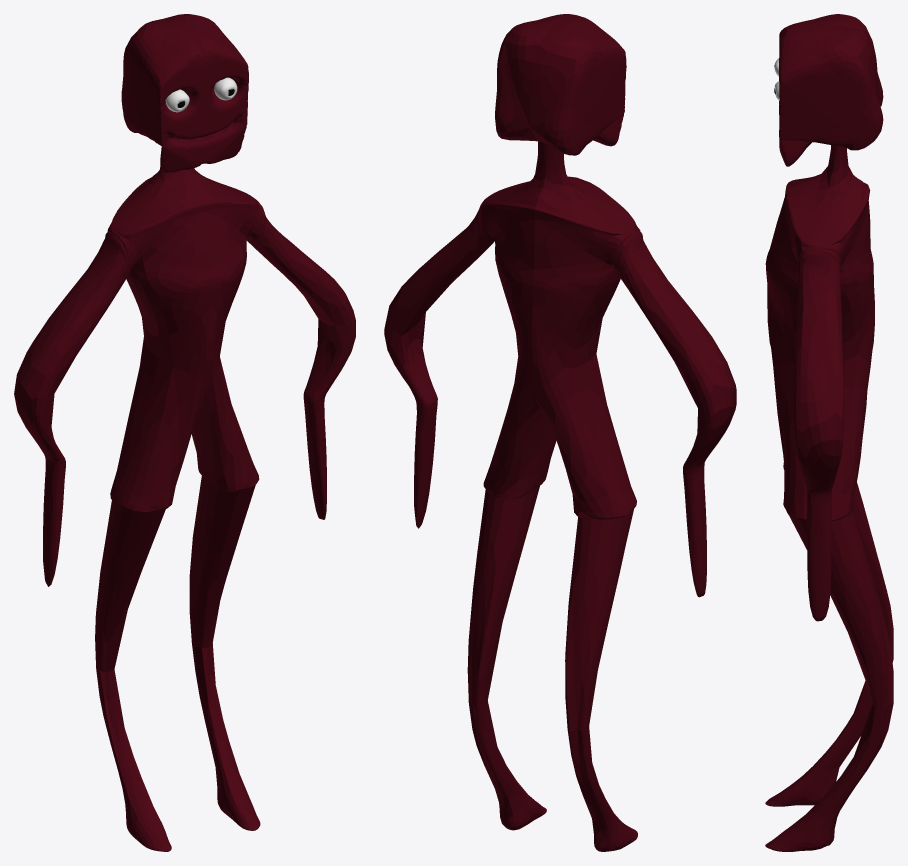
Rendered from MONSTER1.fbx.
The picture shows the model from 3 angles, left to right: view 1: azimuth 30°, elevation 25°; view 2: azimuth 150°, elevation 25°; view 3: azimuth 270°, elevation 25°; orthographic projection. The views are drawn at different scales.
Visible parts, largest first — view 1: Cube, Sphere; view 2: Cube; view 3: Cube.
Part boxes in pixels (left/top/right/bottom): Cube: left=14, top=14, right=355, bottom=851; Sphere: left=165, top=77, right=237, bottom=112; Cube: left=384, top=14, right=736, bottom=851; Cube: left=765, top=14, right=893, bottom=851.
Size of the model in its own units: 465 by 1057 by 154.
